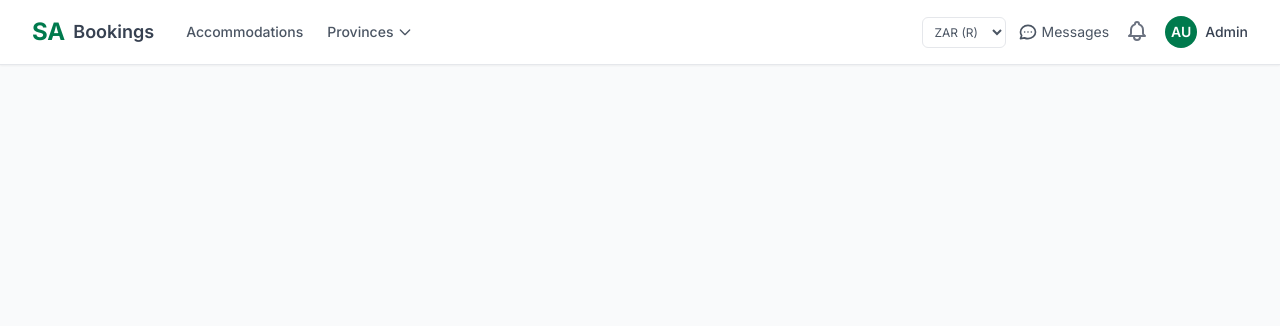
Test case: Header › should show Admin Panel link for admin user
This screenshot has width=1280, height=326.
Click the button "AU Admin": (1207, 32) [1165,16,1248,48]
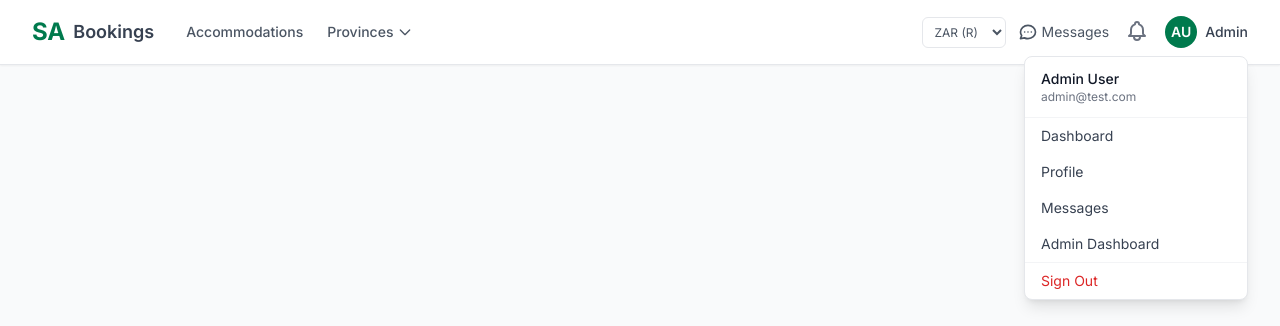
Expected: the link "Admin Dashboard" is shown, [1041,235,1159,252]
